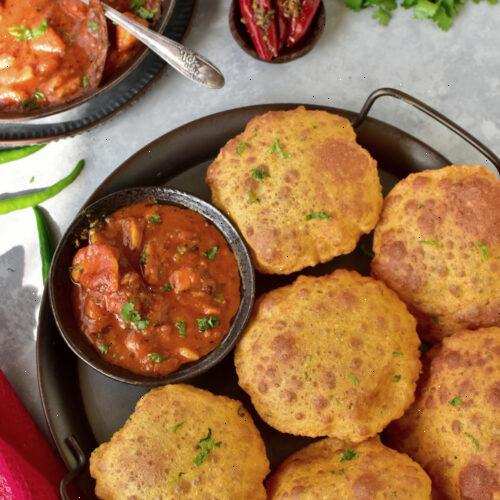aloo sabji: (75, 212, 216, 358)
